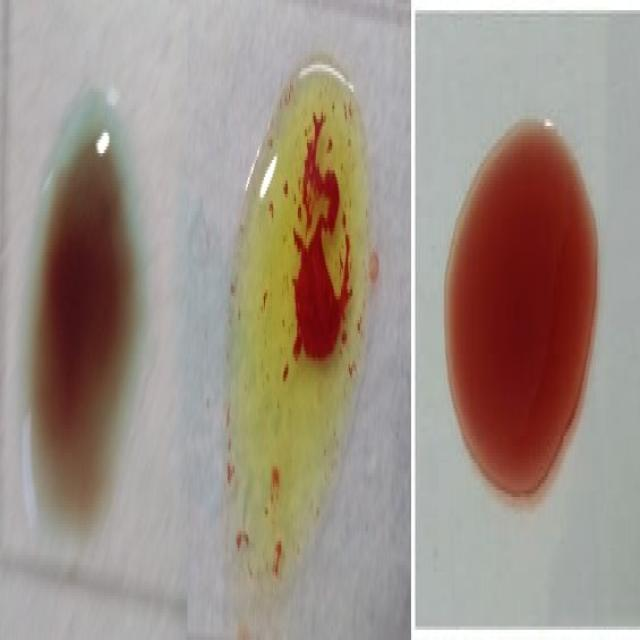B: (228, 47, 370, 594)
